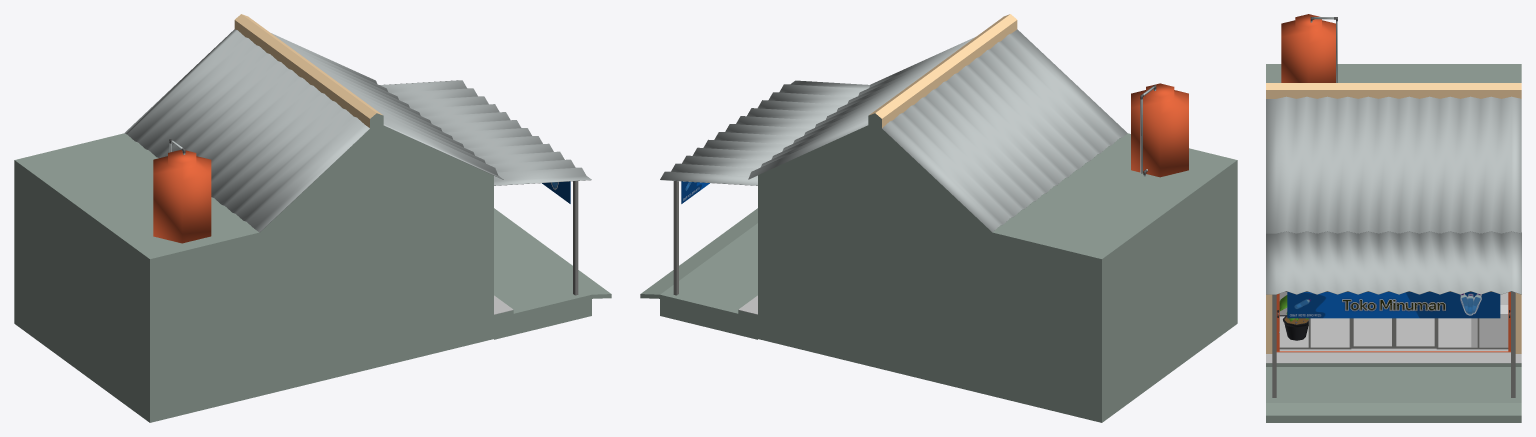
The model's file is Buildings_Stores_TokoElektronik_1.fbx.
3 views of the same model, side by side, from view 1: azimuth 30°, elevation 25°; view 2: azimuth 150°, elevation 25°; view 3: azimuth 270°, elevation 25° (orthographic). The views are drawn at different scales.
Parts seen in each view (by area): view 1: Buildings_TokoElektronik_1_LOD0; view 2: Buildings_TokoElektronik_1_LOD0; view 3: Buildings_TokoElektronik_1_LOD0, Door_1, Door_2.
Part boxes in pixels (x1,y1,x2,y2): Buildings_TokoElektronik_1_LOD0: [14, 14, 611, 422]; Buildings_TokoElektronik_1_LOD0: [640, 14, 1237, 422]; Buildings_TokoElektronik_1_LOD0: [1266, 14, 1521, 422]; Door_1: [1394, 318, 1436, 348]; Door_2: [1351, 318, 1393, 348].
Size of what is drawn, in the model's own units: 1180 by 624 by 600.
